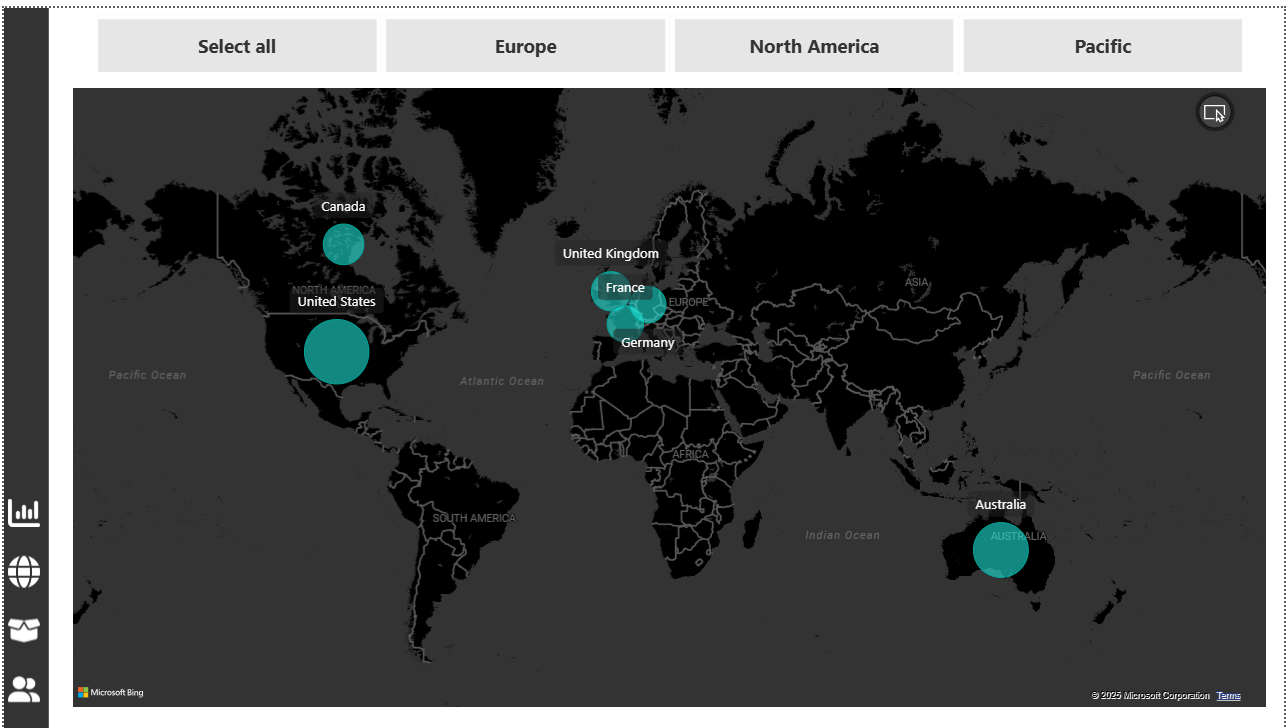

Layout of this report page (visuals, bound fields, positions):
{"tool":"powerbi","page":{"name":"Map","canvas":[1280,720],"ordinal":1},"visuals":[{"type":"shape","box":[0,0,45,720],"z":0},{"type":"actionButton","box":[0,485,45,40],"z":1000,"group":"g1"},{"type":"map","fields":{"Category":["Territory Lookup.Country"],"Size":["Measure Table.Total Orders"]},"box":[63.8,75,1202.5,628.8],"z":1000},{"type":"slicer","fields":{"Values":["Territory Lookup.Continent"]},"box":[63.8,0,1202.5,75],"z":2000},{"type":"actionButton","box":[0,543.8,45,40],"z":2000,"group":"g1"},{"type":"actionButton","box":[0,602.5,45,40],"z":3000,"group":"g1"},{"type":"group","id":"g1","title":"Navigation Buttons","box":[0,485,45,216.2],"z":3000},{"type":"actionButton","box":[0,661.2,45,40],"z":4000,"group":"g1"}]}

Visuals, with their boxes in screenshot pixels (x1, y1, x2, y2):
shape: [x1=0, y1=10, x2=45, y2=725]
actionButton: [x1=0, y1=491, x2=45, y2=531]
map - Territory Lookup.Country x Measure Table.Total Orders: [x1=63, y1=84, x2=1257, y2=708]
slicer - Territory Lookup.Continent: [x1=63, y1=10, x2=1257, y2=84]
actionButton: [x1=0, y1=550, x2=45, y2=589]
actionButton: [x1=0, y1=608, x2=45, y2=648]
"Navigation Buttons" group: [x1=0, y1=491, x2=45, y2=706]
actionButton: [x1=0, y1=666, x2=45, y2=706]
